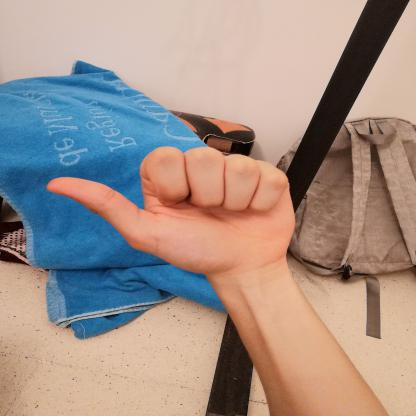DAD: (33, 135, 310, 290)
